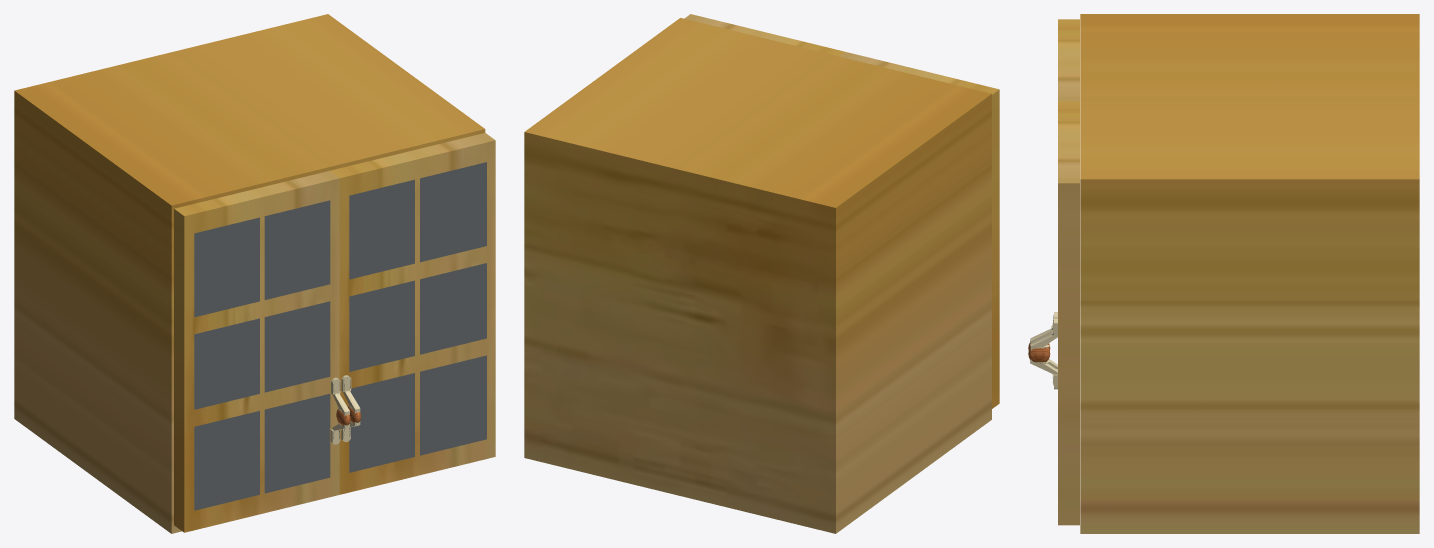
The model's file is sh-contrib-2-glass-door-cabinet.glb.
3 views of the same model, side by side, from view 1: azimuth 30°, elevation 25°; view 2: azimuth 150°, elevation 25°; view 3: azimuth 270°, elevation 25° (orthographic). The views are drawn at different scales.
Parts seen in each view (by area): view 1: PolyMesh_9, sweethome3d_window_pane, Tube_1; view 2: PolyMesh_9; view 3: PolyMesh_9, Tube_1.
Boxes of the visible parts, x1,y1,x2,y2 form: PolyMesh_9: (14,14,495,533); sweethome3d_window_pane: (194,162,486,510); Tube_1: (329,375,360,444); PolyMesh_9: (524,14,999,533); PolyMesh_9: (1058,14,1419,533); Tube_1: (1030,312,1057,389).
Bounding box in the file's own units: 1 × 1 × 1.
4 materials, 2 textured.
